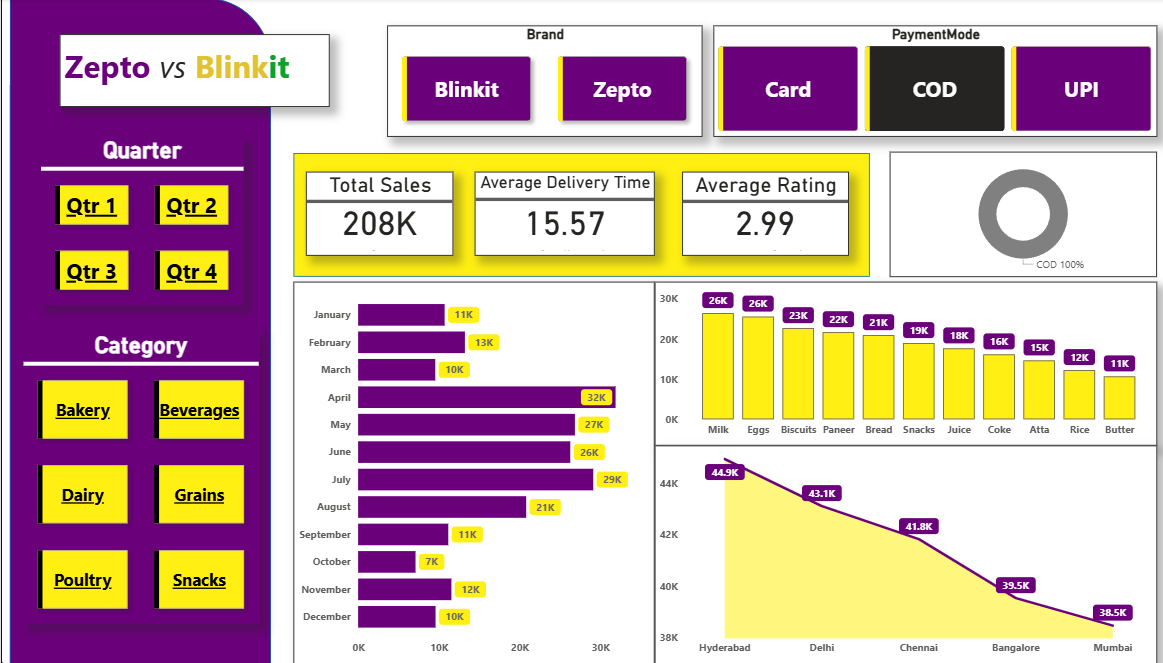

This screenshot's page, from the dashboard's own definition file:
{"tool":"powerbi","page":{"name":"Page 1","canvas":[1400,800],"ordinal":0},"visuals":[{"type":"shape","box":[10.5,0,313.7,800],"z":0},{"type":"textbox","box":[70.5,43,324.2,87.1],"z":2000},{"type":"advancedSlicerVisual","fields":{"Values":["Table2.Brand"]},"box":[463.8,33,378.2,133.6],"z":3000},{"type":"advancedSlicerVisual","fields":{"Values":["Table2.PaymentMode"]},"box":[855.5,33,532.8,133.6],"z":4000},{"type":"advancedSlicerVisual","title":" Quarter","fields":{"Values":["Table2.Date.Variation.Date Hierarchy.Quarter"]},"box":[48,166.6,243.1,202.6],"z":5000},{"type":"advancedSlicerVisual","title":" Category","fields":{"Values":["Table2.Category"]},"box":[27,400.7,282.2,351.2],"z":6000},{"type":"shape","box":[351.2,186.1,691.9,148.6],"z":7000},{"type":"card","title":"Total Sales","fields":{"Values":["Sum(Table2.Amount)"]},"box":[366.2,208.6,177.1,100.6],"z":8000},{"type":"card","title":"Average Delivery Time","fields":{"Values":["Avg(Table2.DeliveryTime(min))"]},"box":[568.8,208.6,216.1,100.6],"z":9000},{"type":"card","title":"Average Rating","fields":{"Values":["Avg(Table2.Rating)"]},"box":[818,208.6,199.6,100.6],"z":10000},{"type":"clusteredBarChart","fields":{"Category":["Table2.Date.Variation.Date Hierarchy.Month"],"Y":["Sum(Table2.Amount)"]},"box":[351.2,340.7,433.7,459.3],"z":11000},{"type":"columnChart","fields":{"Category":["Table2.Product"],"Y":["Sum(Table2.Amount)"]},"box":[785,340.7,603.3,196.6],"z":12000},{"type":"areaChart","fields":{"Category":["Table2.City"],"Y":["Sum(Table2.Amount)"]},"box":[785,538,603,262],"z":13000},{"type":"donutChart","fields":{"Category":["Table2.PaymentMode"],"Y":["Sum(Table2.Amount)"]},"box":[1067.1,184.6,321.2,150.1],"z":14000}]}

Visuals, with their boxes in screenshot pixels (x1, y1, x2, y2), scaled from the page's 1400x800 canvas onto the 1163x663 screenshot:
shape: select_region(9, 0, 269, 662)
textbox: select_region(59, 36, 328, 108)
advancedSlicerVisual - Table2.Brand: select_region(385, 27, 699, 138)
advancedSlicerVisual - Table2.PaymentMode: select_region(711, 27, 1153, 138)
" Quarter" advancedSlicerVisual: select_region(40, 138, 242, 306)
" Category" advancedSlicerVisual: select_region(22, 332, 257, 623)
shape: select_region(292, 154, 867, 277)
"Total Sales" card: select_region(304, 173, 451, 256)
"Average Delivery Time" card: select_region(473, 173, 652, 256)
"Average Rating" card: select_region(680, 173, 845, 256)
clusteredBarChart - Table2.Date.Variation.Date Hierarchy.Month x Sum(Table2.Amount): select_region(292, 282, 652, 662)
columnChart - Table2.Product x Sum(Table2.Amount): select_region(652, 282, 1153, 445)
areaChart - Table2.City x Sum(Table2.Amount): select_region(652, 446, 1153, 662)
donutChart - Table2.PaymentMode x Sum(Table2.Amount): select_region(886, 153, 1153, 277)
